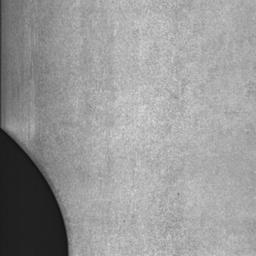Crescent gap: (0, 128, 69, 256)
